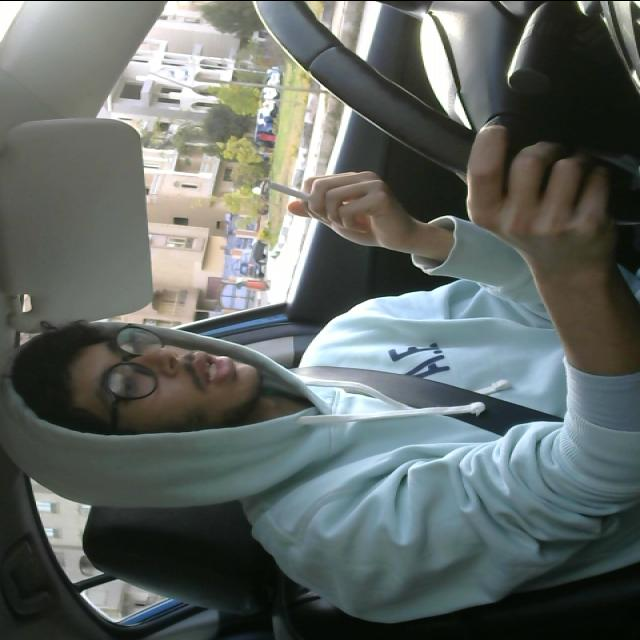smoking: (260, 176, 348, 214)
